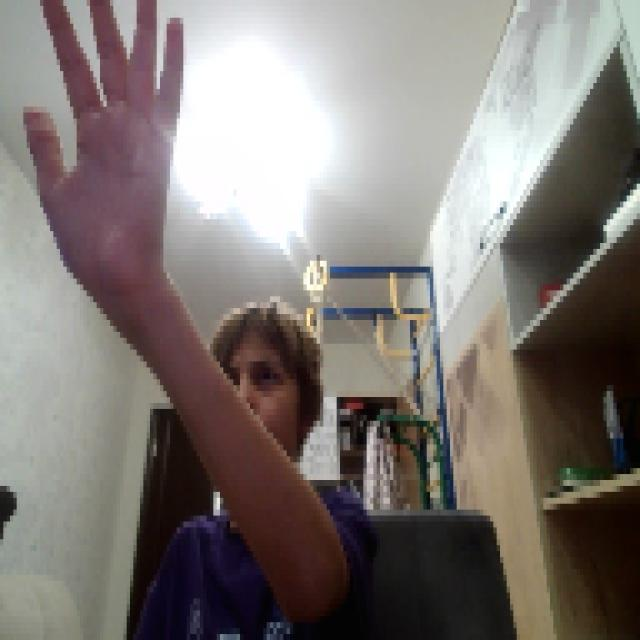hand: (16, 0, 180, 296)
